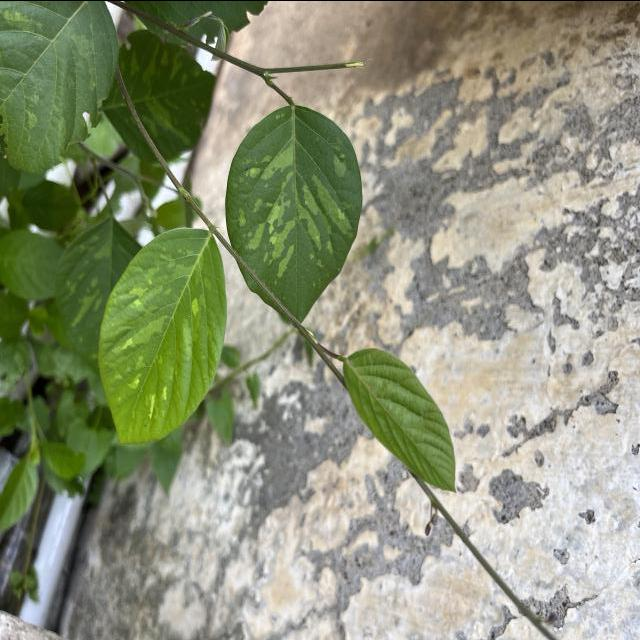Desmodium gangeticum: (222, 102, 365, 328), (96, 224, 230, 448)
